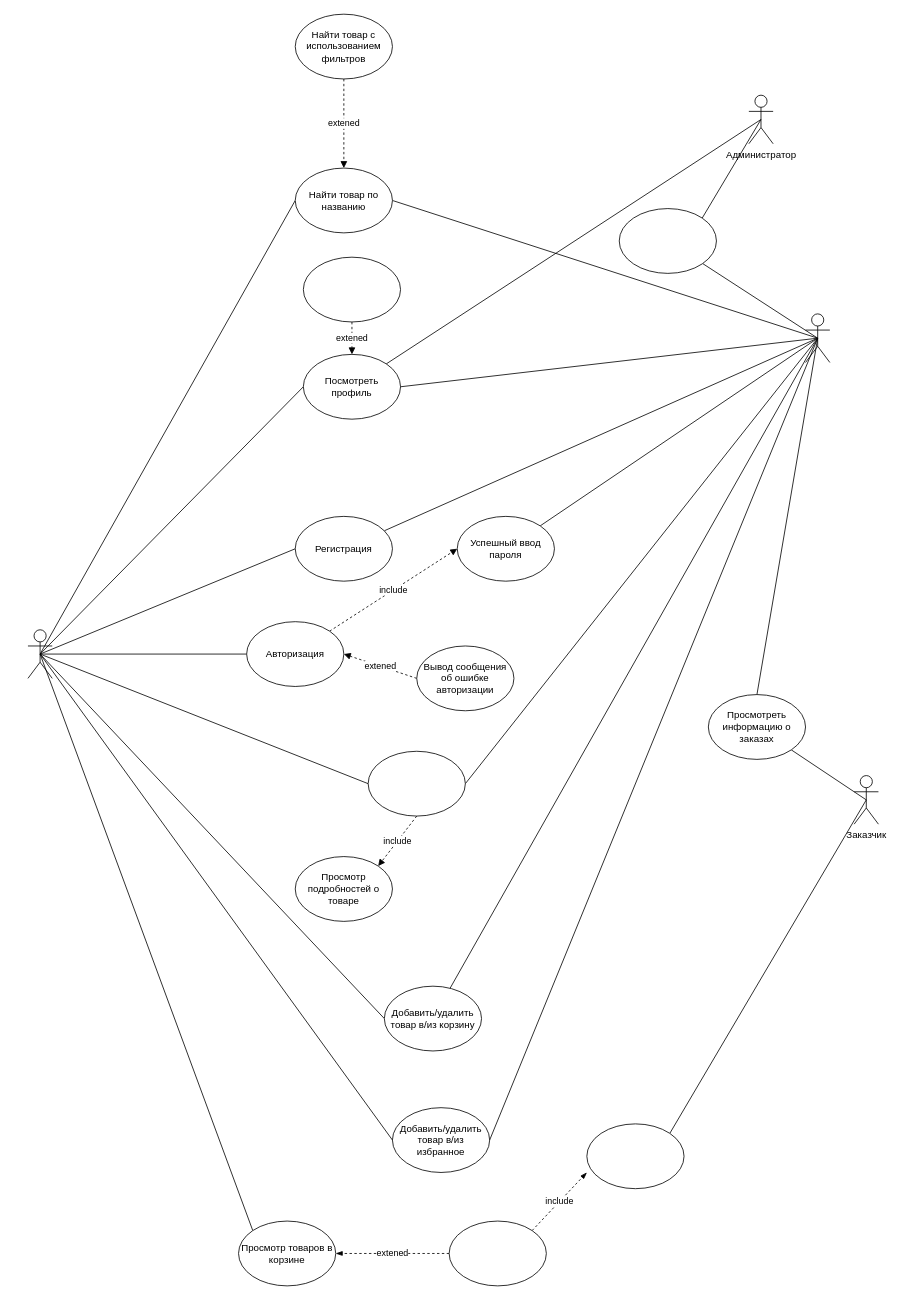
The diagram is 900 pixels wide and 1300 high, and some of its shapes have lost their labels. The shapes that lost their labels are listed below. From the top down, each one's box as (x1, y1, x2, y2) in pixels, then its label:
(618, 208, 716, 273): Добавить/удалить товар в каталог
(303, 256, 401, 322): Редактировать профиль
(805, 313, 830, 362): База данных
(27, 629, 52, 678): Покупатель
(367, 750, 465, 816): Просмотр каталога товаров
(586, 1123, 684, 1189): Отправка заказа
(448, 1220, 546, 1286): Покупка товаров
